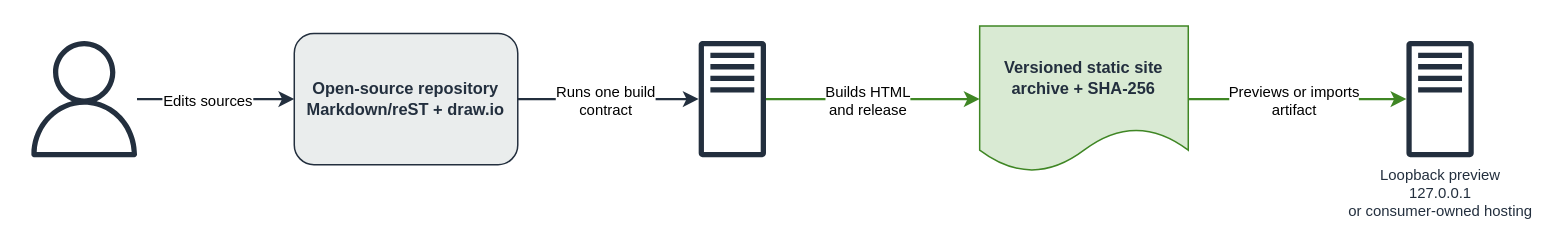
This 1557x247 diagram has some shape labels left out. The box of each missing label's shape, as (x1, y1, x2, y2) in pixels:
Author: (25, 39, 142, 157)
Build environment local or consumer CI Sphinx + draw.io: (673, 39, 790, 157)
